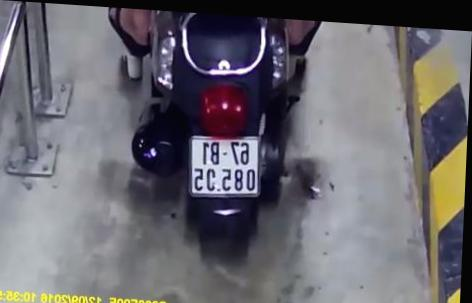License_Plate: (188, 128, 268, 205)
